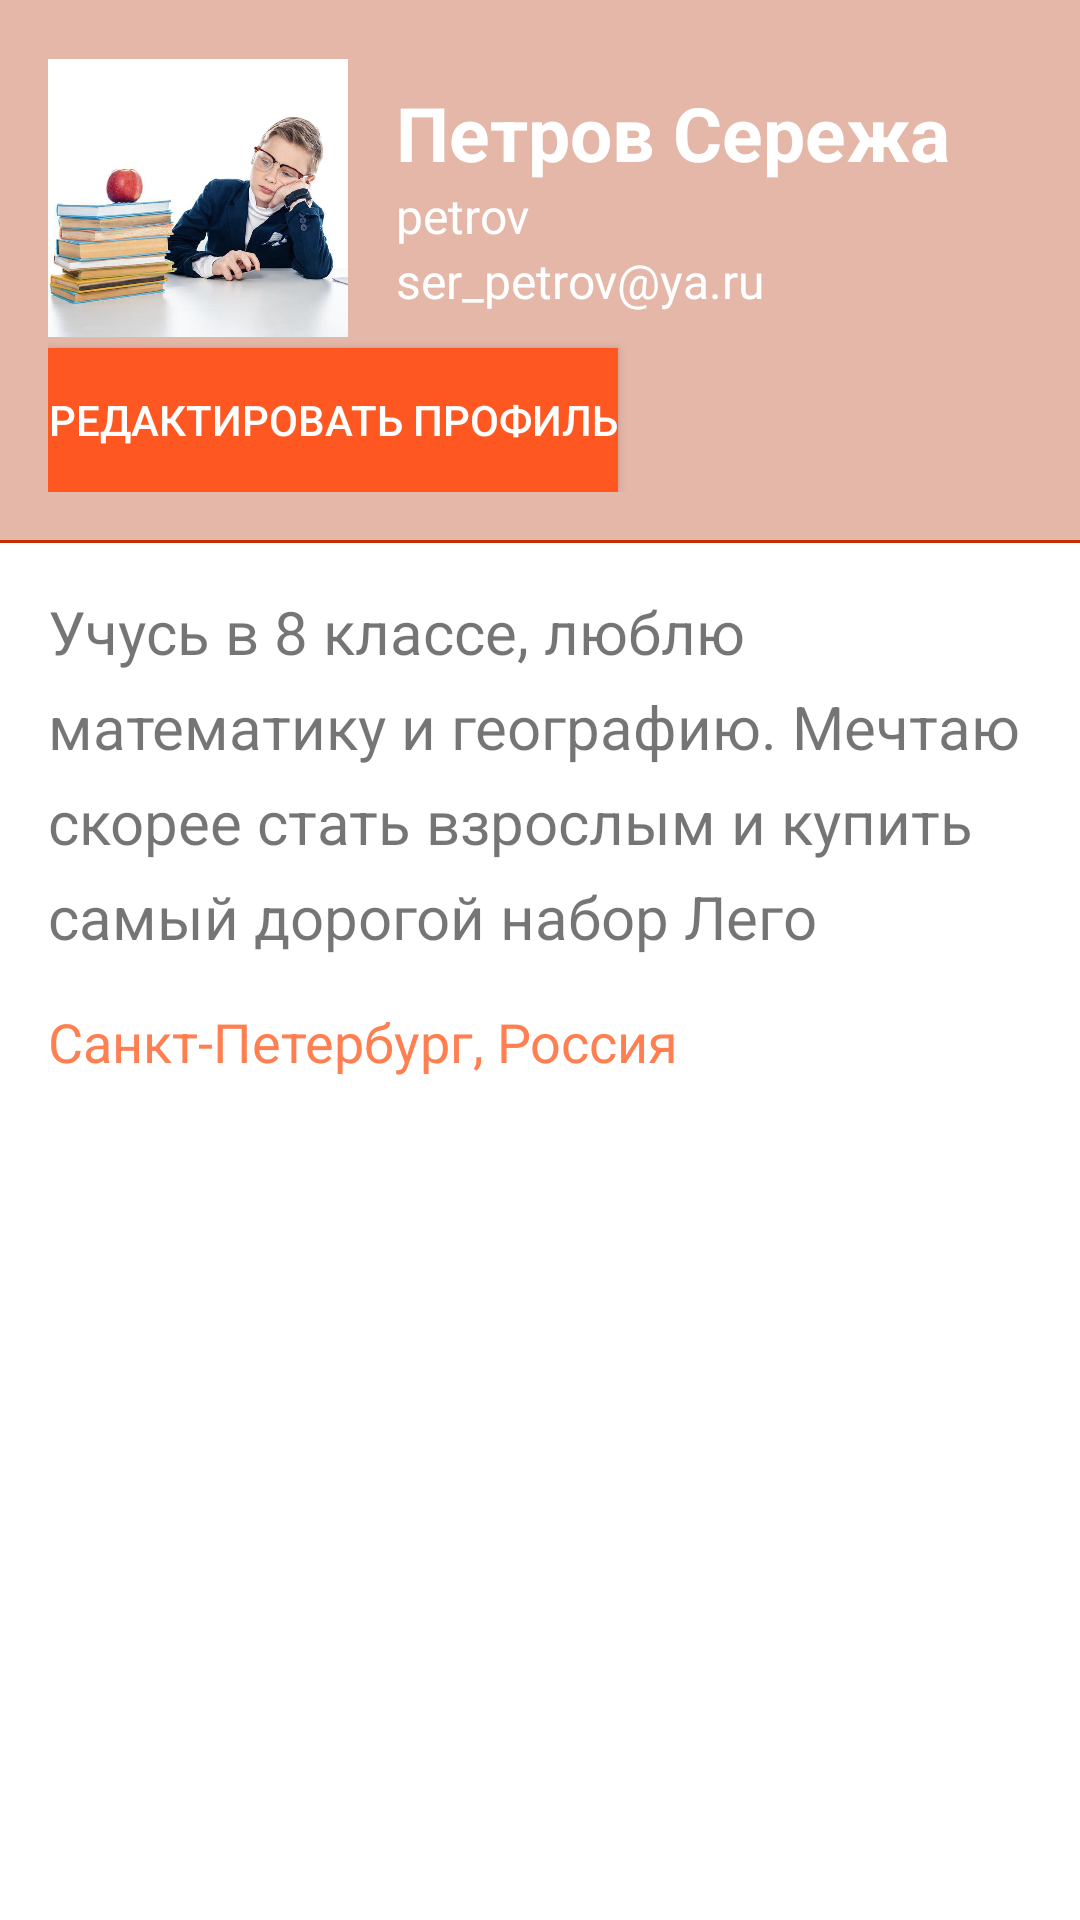

Where icons sit on this 1080*1920 app screen, as (x1, y1, x2, y2):
profile: (48, 59, 348, 337)
